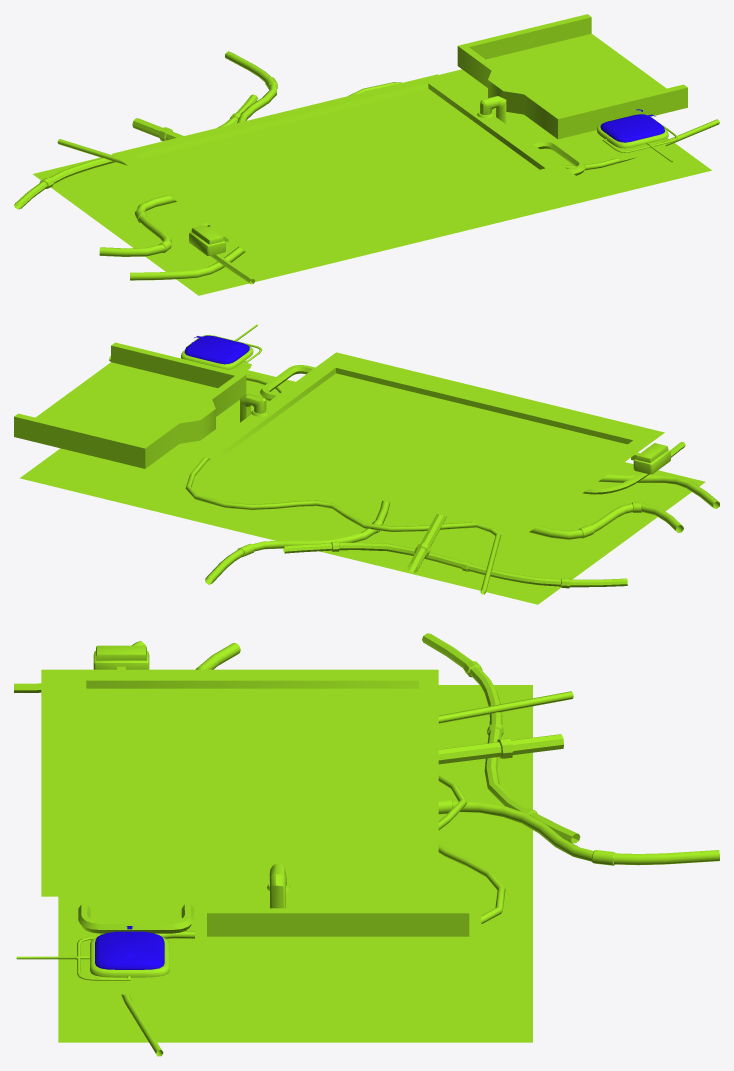
File: escenario (1).fbx
3 renders of one model, top to bottom at view 1: azimuth 30°, elevation 25°; view 2: azimuth 150°, elevation 25°; view 3: azimuth 270°, elevation 25°, orthographic. The views are drawn at different scales.
Visible parts, largest first — view 1: camilla, suelo, cajon, Line007, cristal, Line004, Line003, Line006, Line002, Plane001, Line005, Line009 (+3 smaller); view 2: camilla, suelo, cajon, Line003, Line004, Line002, Line007, cristal, Line006, Line001, Line005, Line008 (+2 smaller); view 3: camilla, suelo, cajon, Line004, Line002, Line003, cristal, Line001, Line005, Plane001, tv, Boton003 (+1 smaller).
Part boxes in pixels (x1,y1,x2,y2): camilla: [112, 74, 576, 255]; suelo: [32, 69, 711, 295]; cajon: [457, 14, 687, 139]; Line007: [99, 195, 176, 256]; cristal: [600, 114, 664, 142]; Line004: [57, 82, 719, 170]; Line003: [14, 94, 257, 209]; Line006: [130, 246, 245, 280]; Line002: [225, 51, 277, 122]; Plane001: [598, 141, 666, 160]; Line005: [531, 140, 585, 175]; Line009: [477, 96, 506, 124]; camilla: [196, 352, 664, 535]; suelo: [20, 370, 705, 604]; cajon: [14, 342, 246, 468]; Line003: [283, 541, 627, 588]; Line004: [109, 356, 501, 594]; Line002: [205, 500, 389, 584]; Line007: [529, 502, 683, 539]; cristal: [184, 335, 249, 364]; Line006: [598, 474, 719, 508]; Line001: [407, 514, 446, 573]; Line005: [260, 365, 314, 400]; Line008: [582, 441, 685, 494]; camilla: [41, 669, 438, 896]; suelo: [58, 685, 532, 1042]; cajon: [195, 899, 481, 1022]; Line004: [121, 691, 573, 1056]; Line002: [438, 799, 719, 865]; Line003: [422, 633, 580, 843]; cristal: [95, 931, 164, 969]; Line001: [438, 734, 563, 764]; Line005: [78, 904, 193, 933]; Plane001: [94, 975, 165, 994]; tv: [90, 937, 169, 977]; Boton003: [96, 645, 146, 660].
Size of the model in its own units: 11.56 by 1.23 by 8.13.
